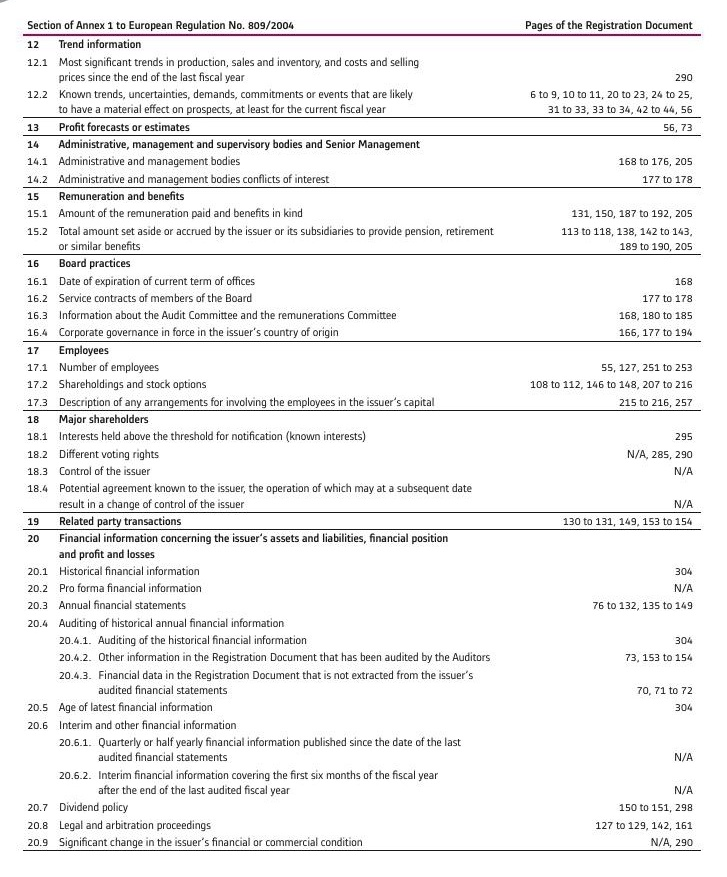table: (0, 0, 727, 877)
